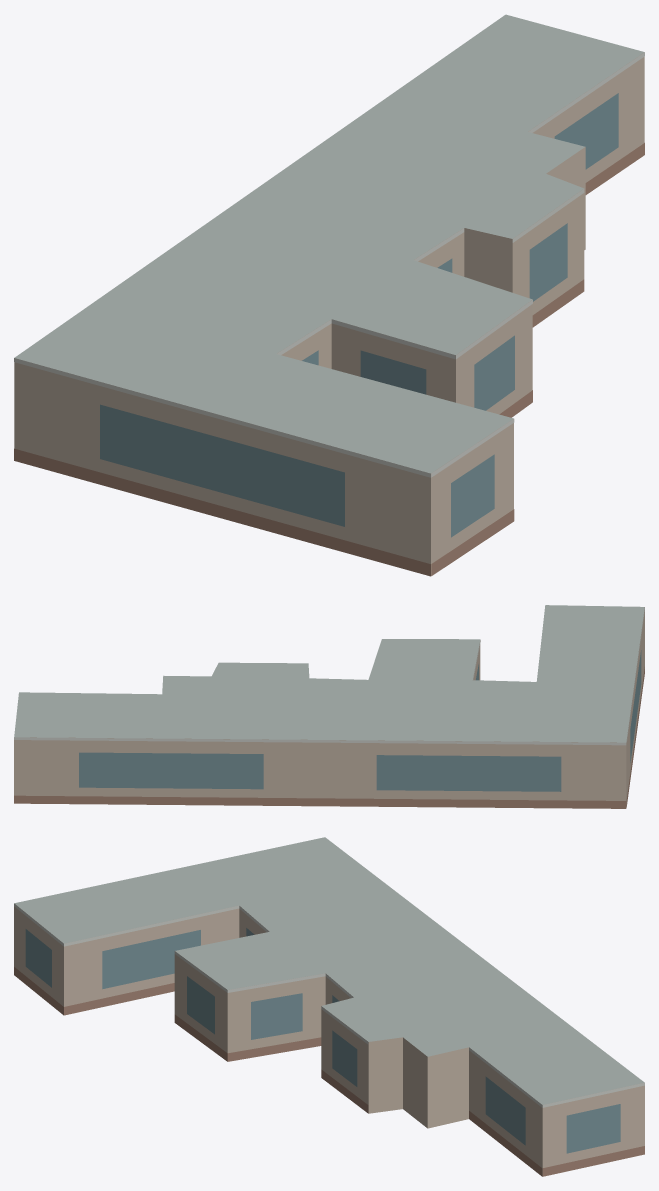
Rendered from survey-upis-32951423.glb.
3 renders of one model, top to bottom at view 1: azimuth 30°, elevation 25°; view 2: azimuth 150°, elevation 25°; view 3: azimuth 270°, elevation 25°, orthographic. The views are drawn at different scales.
Parts seen in each view (by area): view 1: survey-upis-32951423.tmp; view 2: survey-upis-32951423.tmp; view 3: survey-upis-32951423.tmp.
Part boxes in pixels (x1,y1,x2,y2): survey-upis-32951423.tmp: (14, 14, 644, 576); survey-upis-32951423.tmp: (14, 605, 644, 808); survey-upis-32951423.tmp: (14, 837, 644, 1176).
Size of the model in its own units: 24.41 by 3.05 by 24.29.
